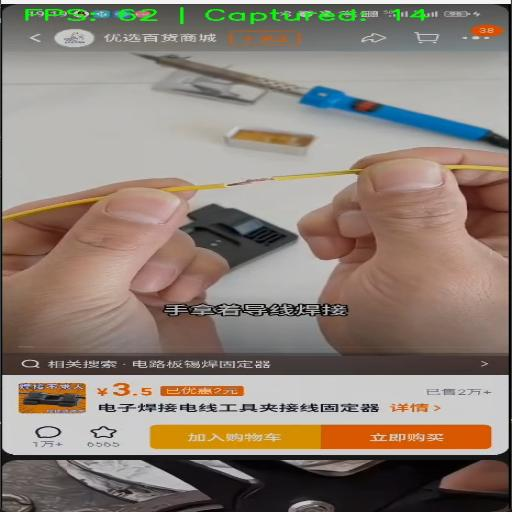back: (11, 30, 52, 48)
butten: (9, 353, 509, 376), (26, 422, 80, 453), (449, 26, 505, 48), (385, 400, 446, 416)
